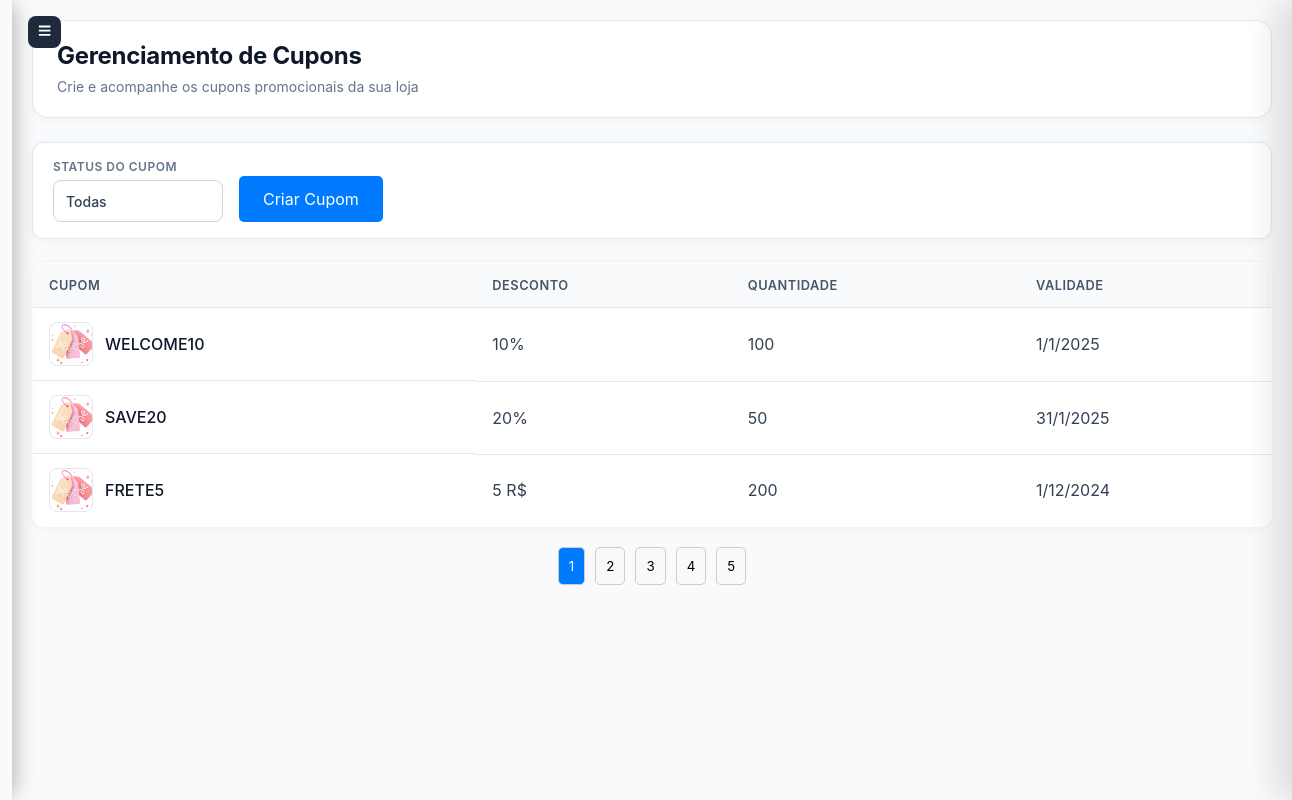
Test: coupons filters › should update the URL when the select filter changes
Select "cupons ativos" in the dropdown named "filtrar por status" at (138, 201), box 53,180 -> 223,222
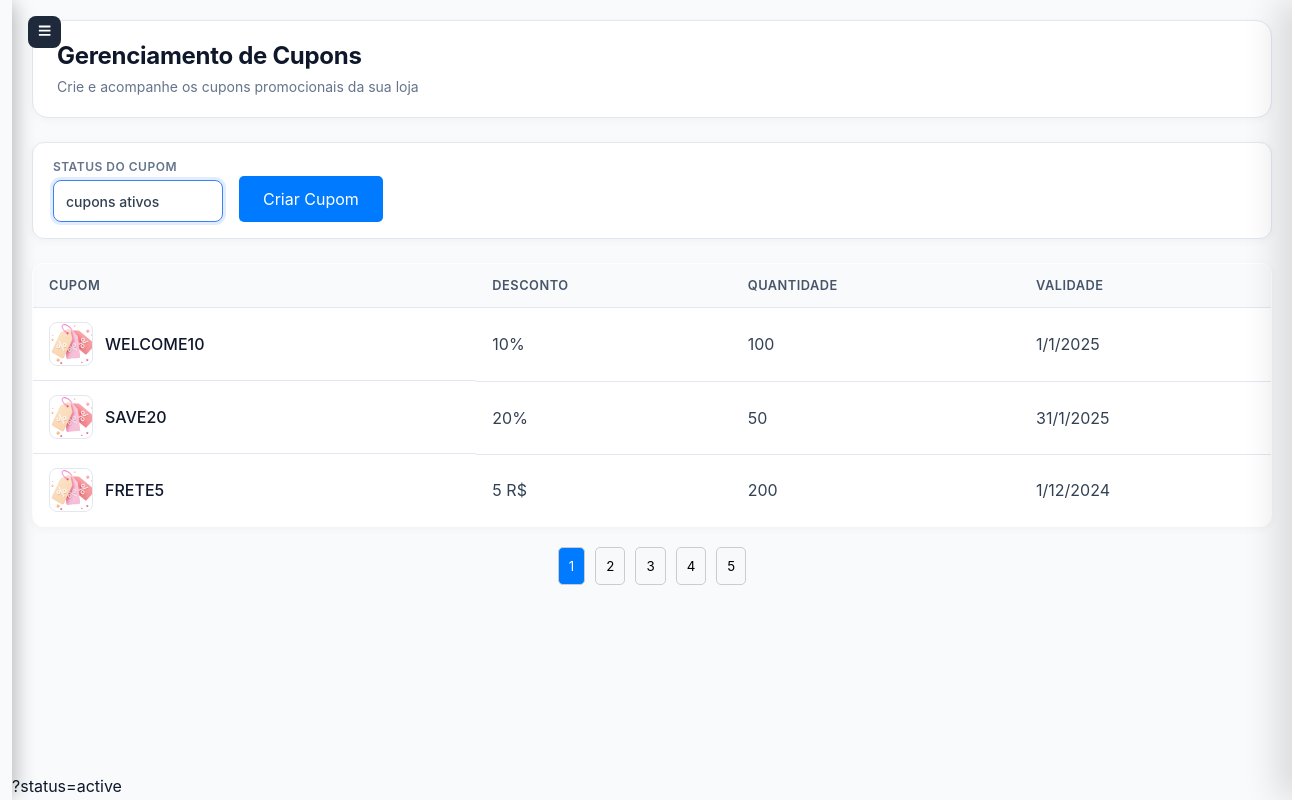
Expected: the text with test id "location" reads "?status=active", 12,776 -> 122,796
